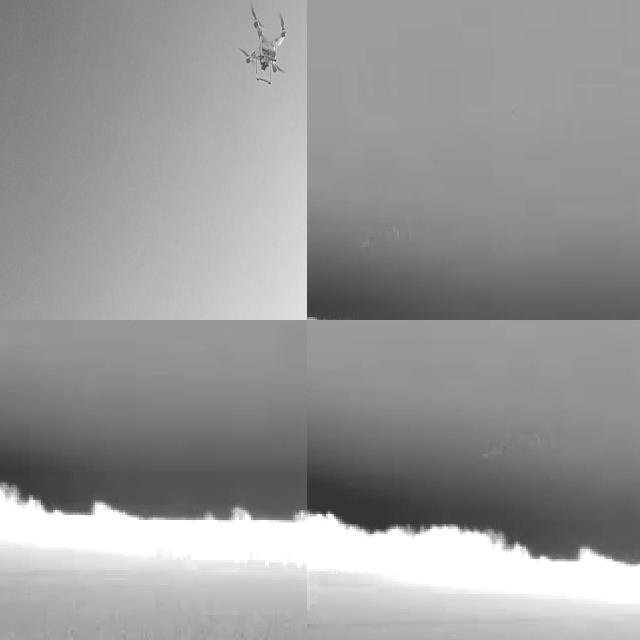0: (471, 443, 501, 473), (349, 232, 377, 262)
drone: (240, 0, 291, 92)
